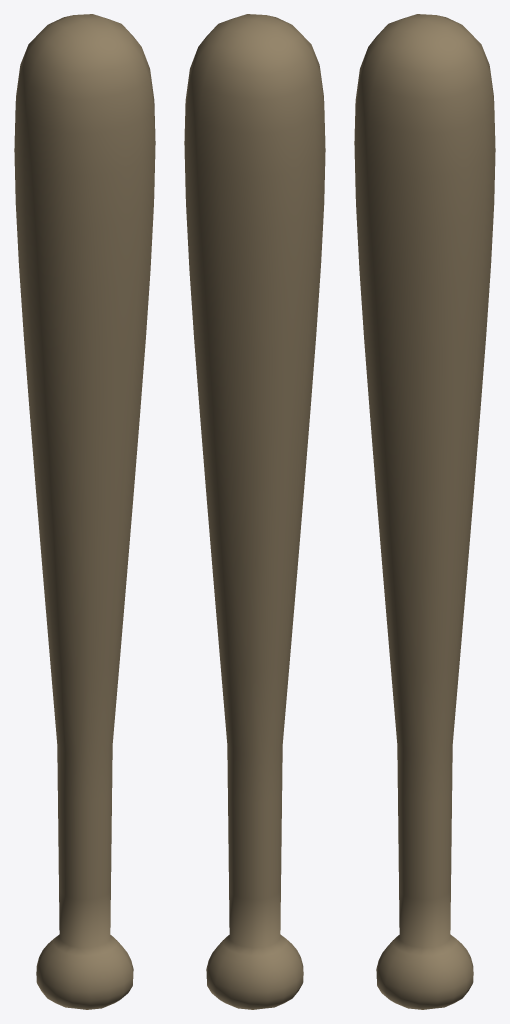
The model's file is bat.fbx.
3 views of the same model, side by side, from view 1: azimuth 30°, elevation 25°; view 2: azimuth 150°, elevation 25°; view 3: azimuth 330°, elevation 25° (orthographic).
Parts seen in each view (by area): view 1: Cube; view 2: Cube; view 3: Cube.
Part boxes in pixels (x1,y1,x2,y2): Cube: (14, 14, 155, 1009); Cube: (184, 14, 325, 1009); Cube: (354, 14, 495, 1009).
Bounding box in the file's own units: 179 × 1381 × 179.
